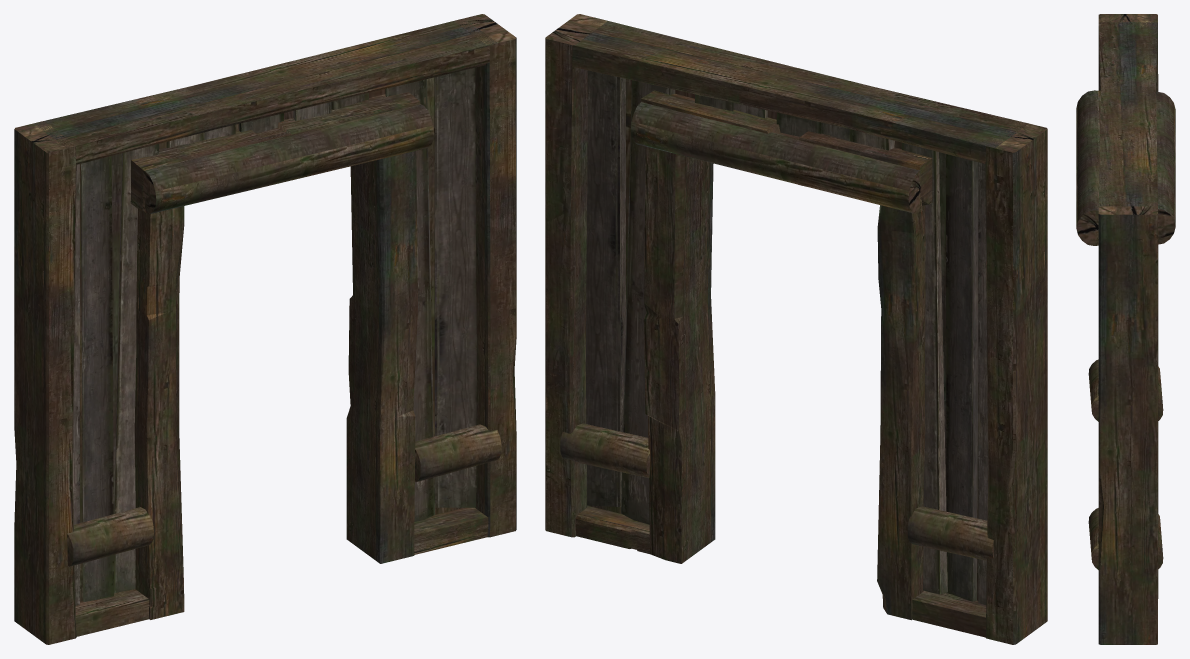
3 views of the same model, side by side, from view 1: azimuth 30°, elevation 25°; view 2: azimuth 150°, elevation 25°; view 3: azimuth 270°, elevation 25° (orthographic). The views are drawn at different scales.
Parts seen in each view (by area): view 1: SM_BB_T1_Wall_Large_Doorframe_LOD0; view 2: SM_BB_T1_Wall_Large_Doorframe_LOD0; view 3: SM_BB_T1_Wall_Large_Doorframe_LOD0.
Part boxes in pixels (x1,y1,x2,y2): SM_BB_T1_Wall_Large_Doorframe_LOD0: [14, 14, 516, 644]; SM_BB_T1_Wall_Large_Doorframe_LOD0: [545, 14, 1047, 644]; SM_BB_T1_Wall_Large_Doorframe_LOD0: [1076, 14, 1175, 644].
Bounding box in the file's own units: 3 × 3 × 0.6279.
2 materials, 2 textured.
